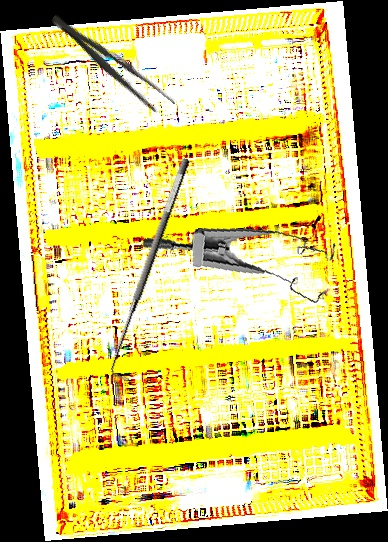Dressing Forceps: (44, 7, 179, 121)
Hook Surgical: (100, 156, 208, 385)
Speculum: (140, 207, 345, 329)
